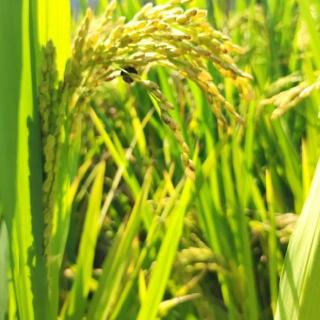Gosong-Palsu: (119, 65, 139, 86)
